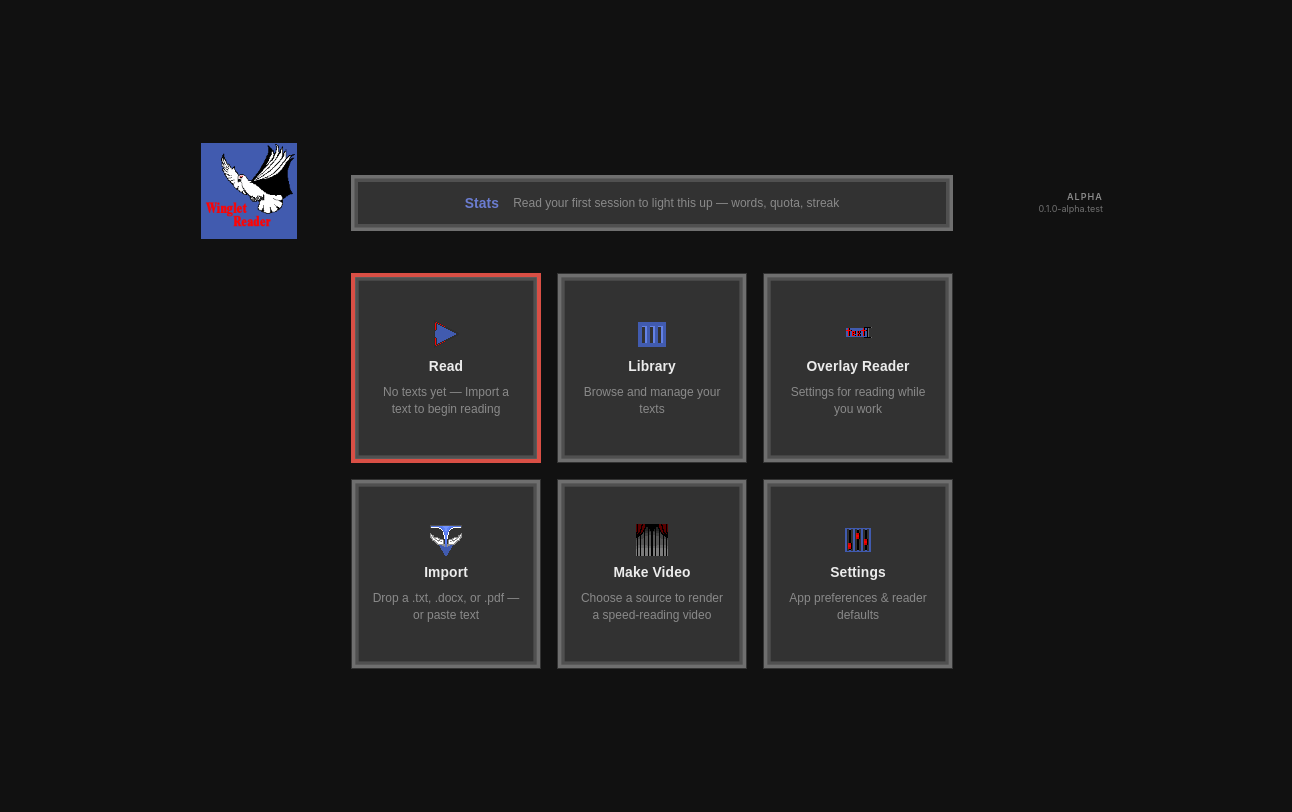
Test: Read while working onboarding › hub RWW tile opens the Overlay Reader Settings subview
The width and height of the screenshot is (1292, 812).
Check: the button "Read While Working" is not shown
Click the button "Overlay Reader".
click(858, 368)  # box [763,273,953,463]
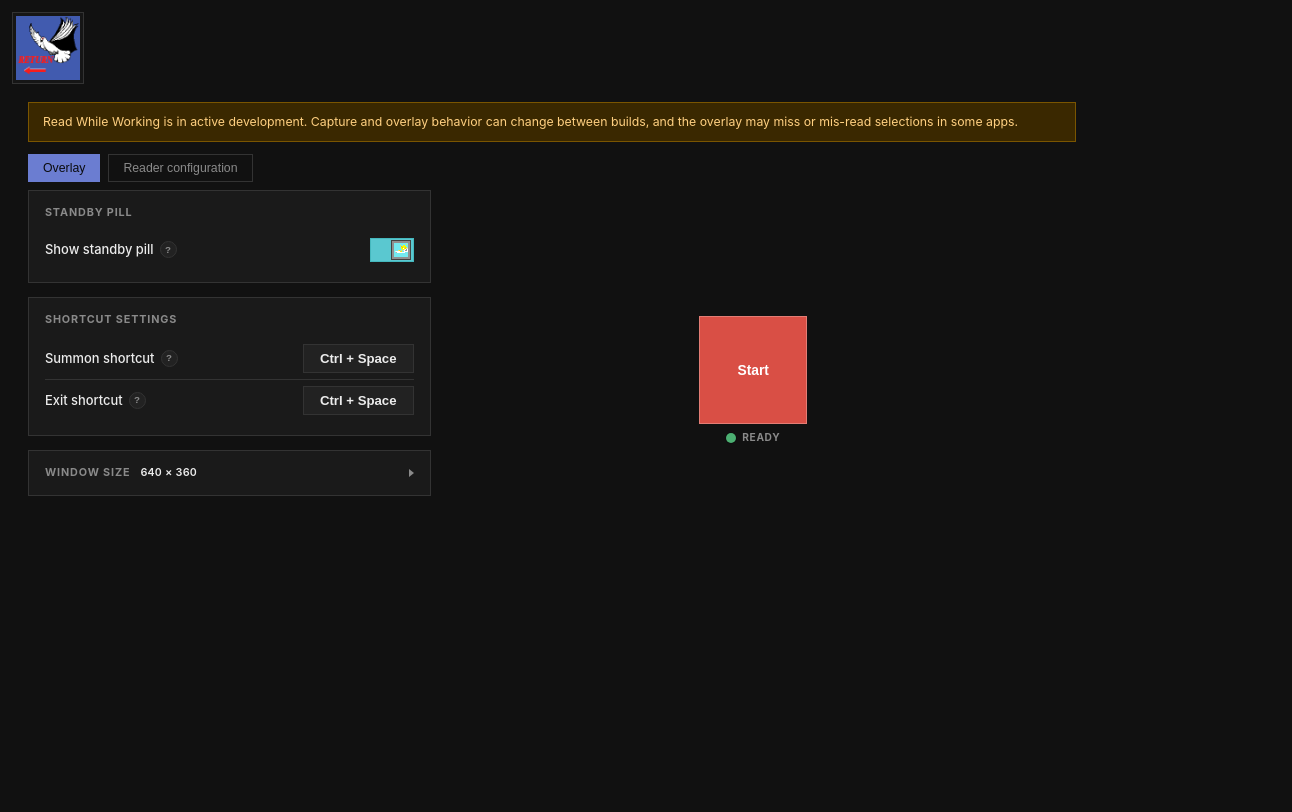
Check: the element named "Overlay Reader settings" is shown, box [28,102,1076,496]
Check: the button "Overlay Reader Settings" is gone
Check: the element with class "rww-overlay-host-column" is shown, box [699,316,807,443]
